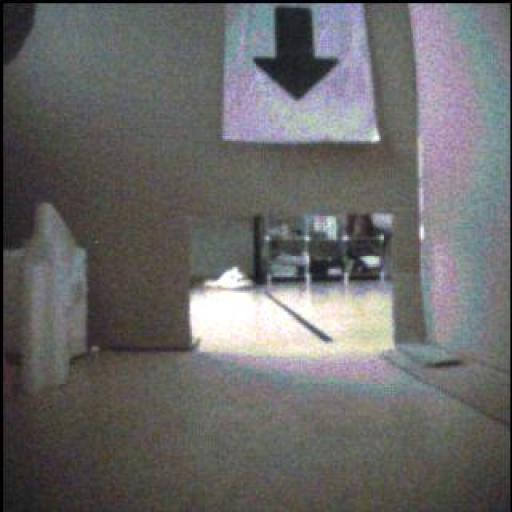arrow: (256, 8, 339, 101)
